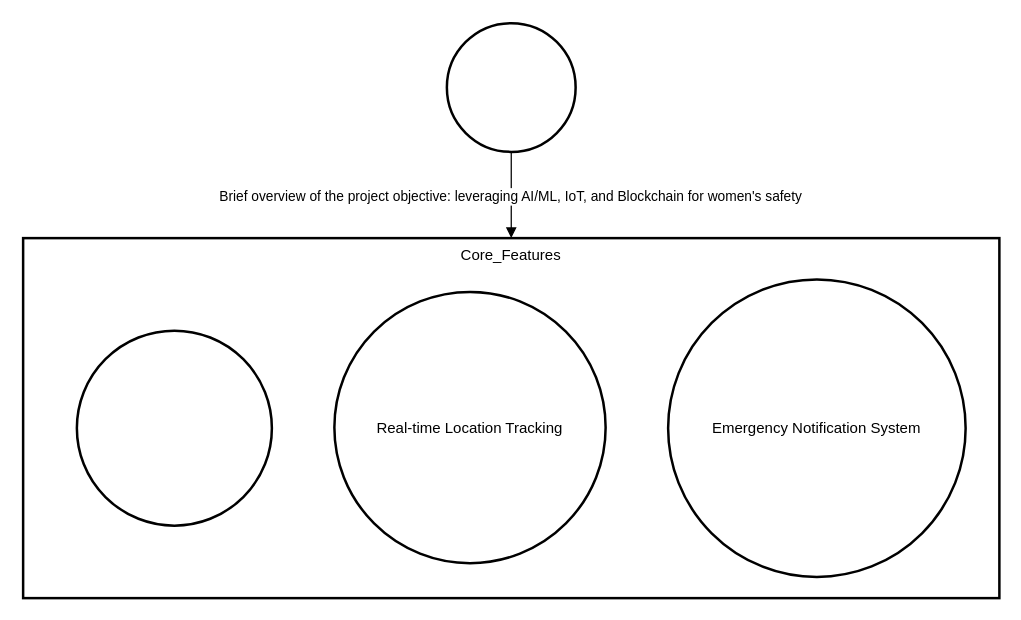
Image size: 1021x620. Some labels were removed from this diagram. Each missing label, with the box of its shape:
Introduction: (445, 21, 576, 152)
Scream Recognition: (75, 329, 272, 526)
